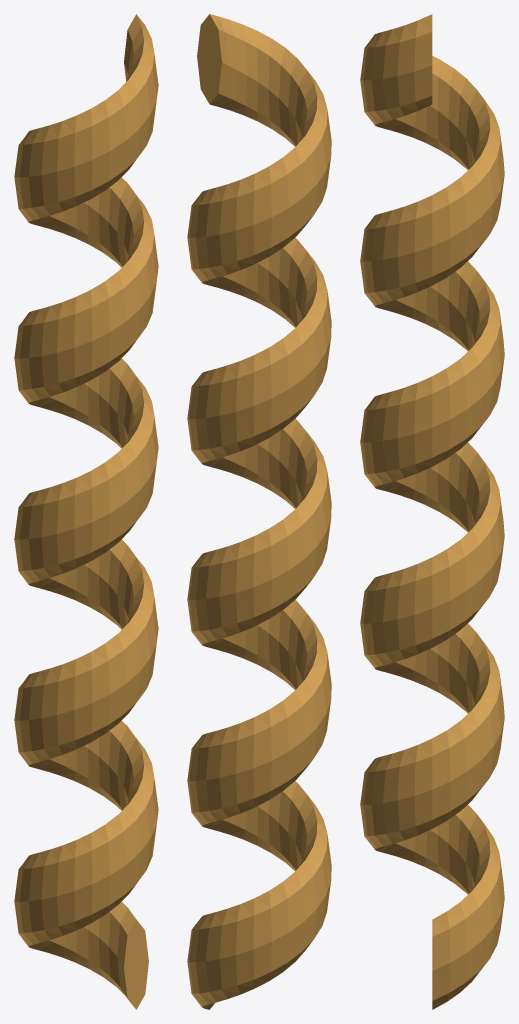
The model's file is helix_1.glb.
3 views of the same model, side by side, from view 1: azimuth 30°, elevation 25°; view 2: azimuth 150°, elevation 25°; view 3: azimuth 270°, elevation 25° (orthographic).
Visible parts, largest first — view 1: Mesh_Mesh_head_geo.001_lambert2SG.001; view 2: Mesh_Mesh_head_geo.001_lambert2SG.001; view 3: Mesh_Mesh_head_geo.001_lambert2SG.001.
Boxes of the visible parts, bbox=[...] form: Mesh_Mesh_head_geo.001_lambert2SG.001: bbox=[14, 14, 158, 1009]; Mesh_Mesh_head_geo.001_lambert2SG.001: bbox=[187, 14, 331, 1009]; Mesh_Mesh_head_geo.001_lambert2SG.001: bbox=[360, 14, 504, 1009].
Bounding box in the file's own units: 9.05 × 69 × 9.07.
